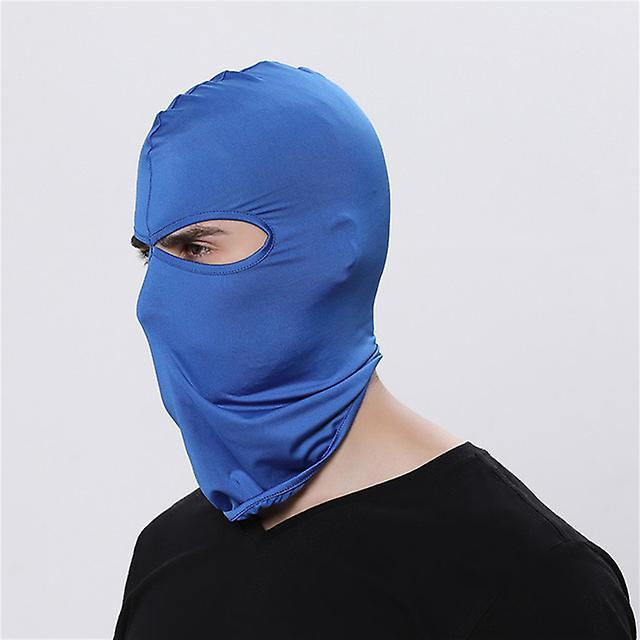6_pasamontana: (136, 60, 390, 522)
